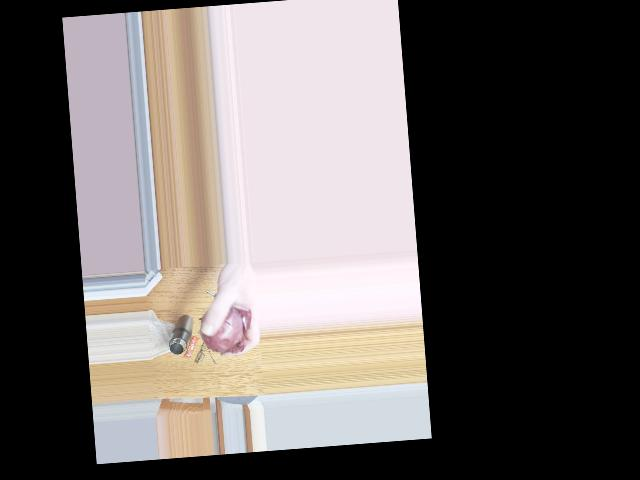onion: (205, 302, 248, 351)
